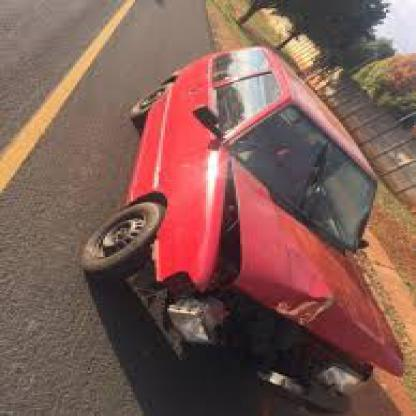dent: (276, 292, 332, 324)
